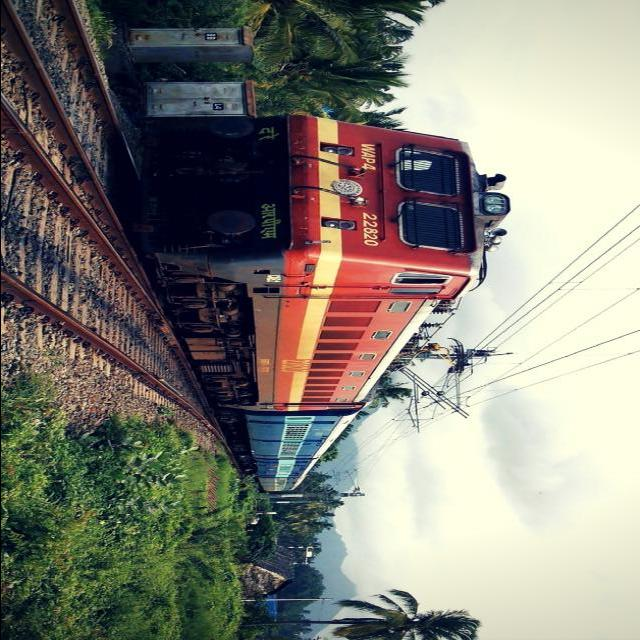wagon: (358, 212, 382, 248)
